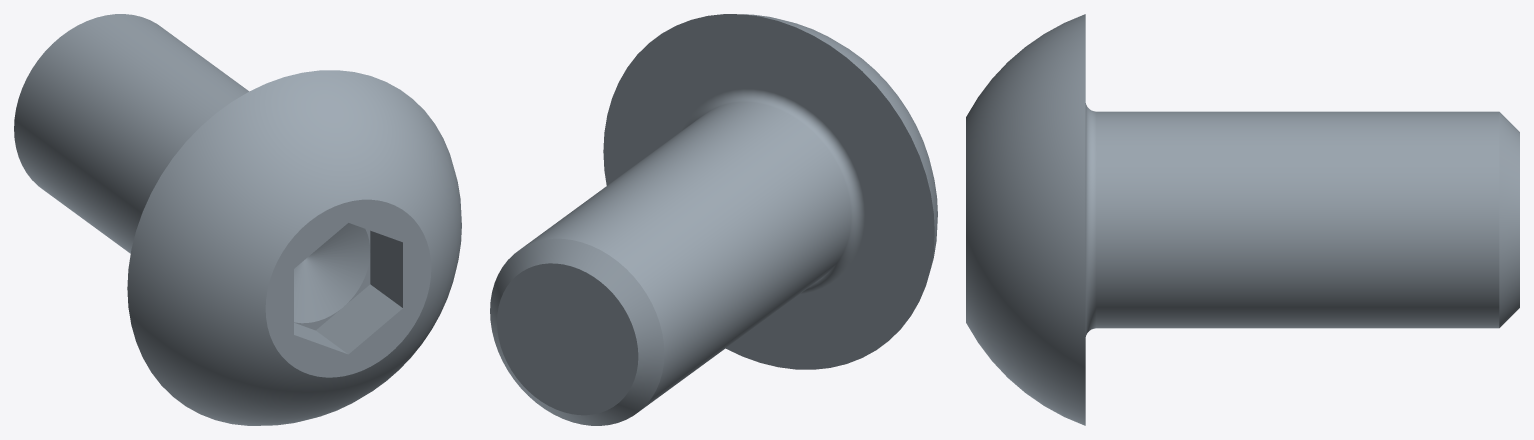
Rendered from 062_Socket_button_head_screw_M4x0_7_x_8.obj.
The picture shows the model from 3 angles, left to right: view 1: azimuth 30°, elevation 25°; view 2: azimuth 150°, elevation 25°; view 3: azimuth 270°, elevation 25°; orthographic projection. The views are drawn at different scales.
Parts seen in each view (by area): view 1: mesh4013, mesh4010, mesh4014, mesh4022, mesh4019, mesh4020, mesh4018; view 2: mesh4010, mesh4012, mesh4008, mesh4009, mesh4011, mesh4013; view 3: mesh4010, mesh4013, mesh4009, mesh4011.
Part boxes in pixels (x1,y1,x2,y2): mesh4013: (127,70,461,425); mesh4010: (14,14,248,253); mesh4014: (265,199,431,377); mesh4022: (294,223,370,323); mesh4019: (316,284,402,354); mesh4020: (370,230,402,307); mesh4018: (294,323,347,353); mesh4010: (522,102,851,409); mesh4012: (603,14,934,369); mesh4008: (497,263,638,415); mesh4009: (490,238,664,425); mesh4011: (680,89,864,294); mesh4013: (744,14,937,267); mesh4010: (1096,111,1499,328); mesh4013: (966,14,1085,425); mesh4009: (1499,112,1519,327); mesh4011: (1085,103,1096,336).
Size of the model in its own units: 0.0076 by 0.00759 by 0.0102.
